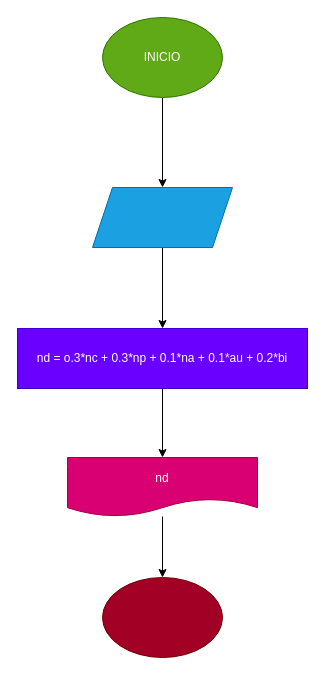
Some shapes in this 325 by 675 pixel diagram are drawn without their labels. The shapes that lost their labels are listed below. From the top down, each one's centre as x and y in pixels, then its label:
[162,217]: nc, cp, na, au, bi
[162,617]: FIN
